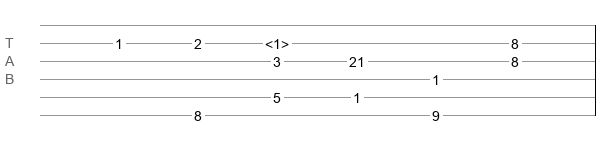1: (115, 36, 123, 46), (353, 90, 361, 100), (432, 72, 440, 82)
2: (194, 36, 202, 46)
21: (349, 54, 365, 64)
3: (273, 54, 281, 64)
5: (273, 90, 281, 100)
8: (194, 108, 202, 118), (511, 36, 519, 46), (511, 54, 519, 64)
9: (432, 108, 440, 118)
harmonic: (265, 36, 289, 46)
